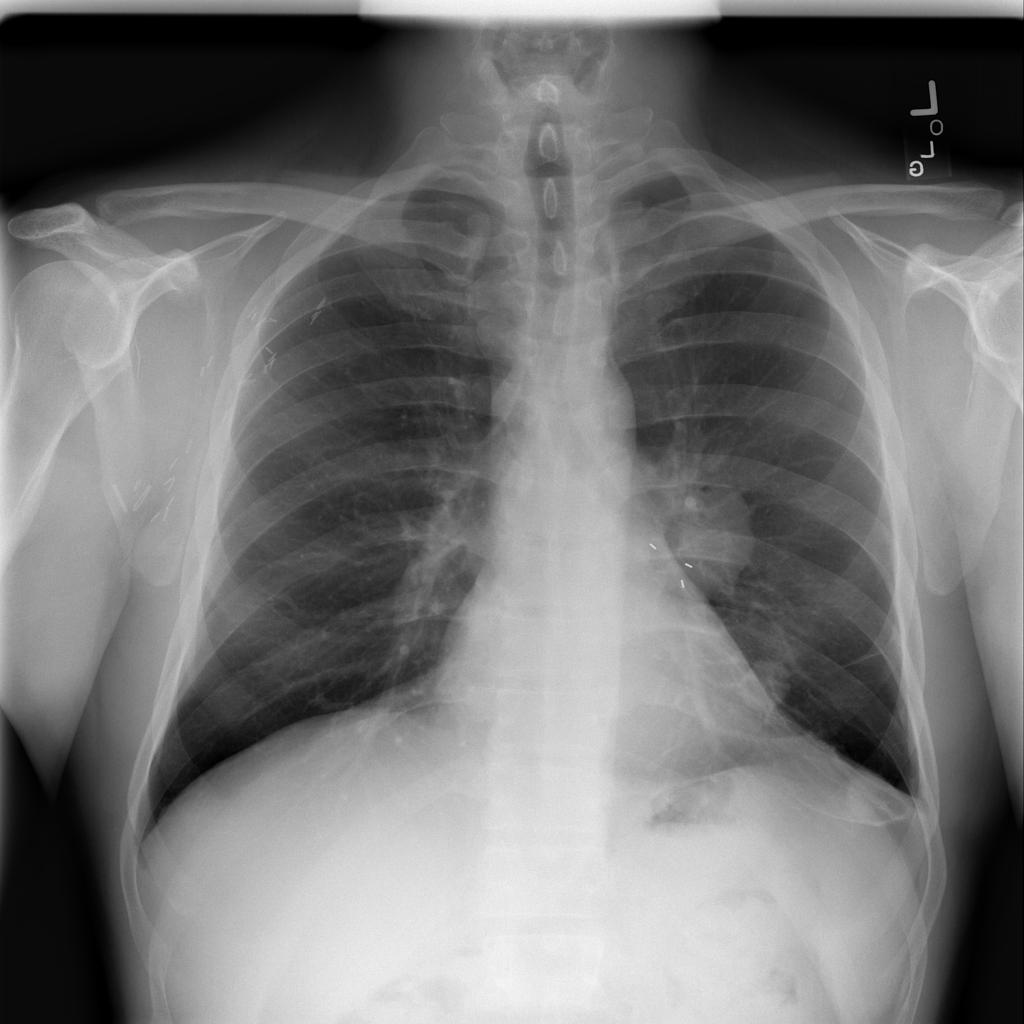nodule: (643, 457, 770, 599), (720, 648, 801, 722)
